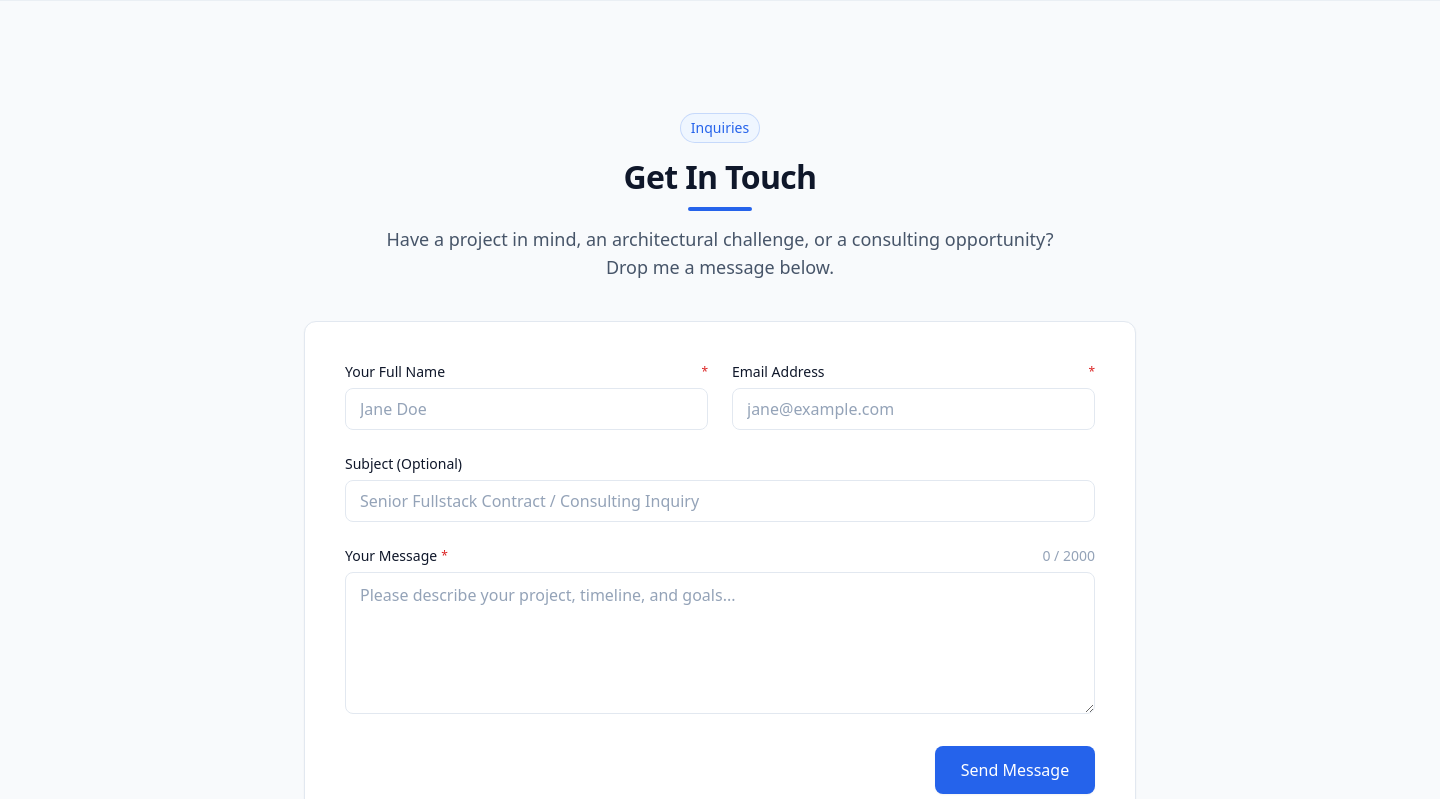
Test: Contact Form Component › Client-Side Form Validation › shows inline error when name is shorter than 2 characters
This screenshot has width=1440, height=799.
Type "A" into the field labelled "Your Full Name *" at (526, 409), box [345,388,708,430]
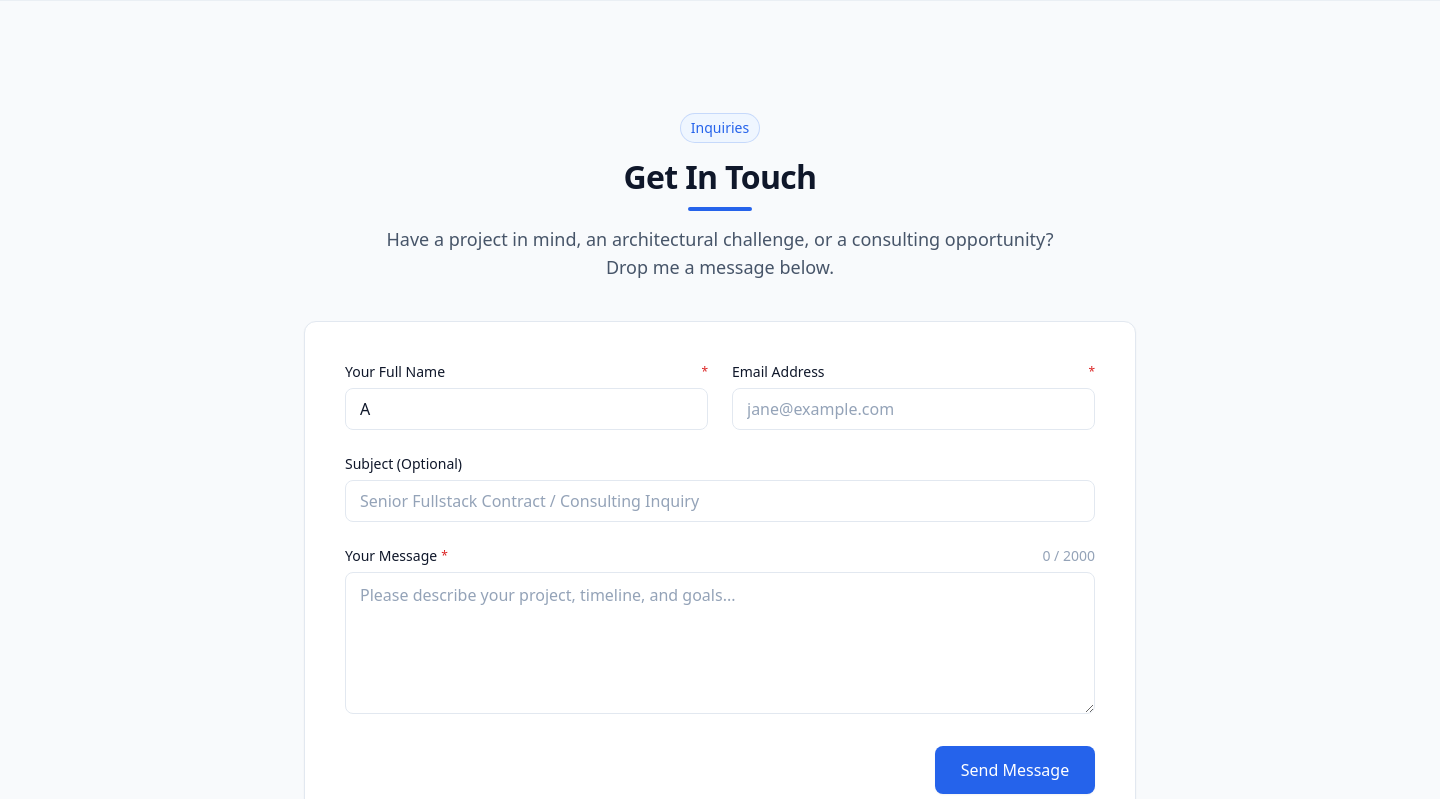
Click the button "Send Message" at (1015, 770), box [935,746,1095,794]
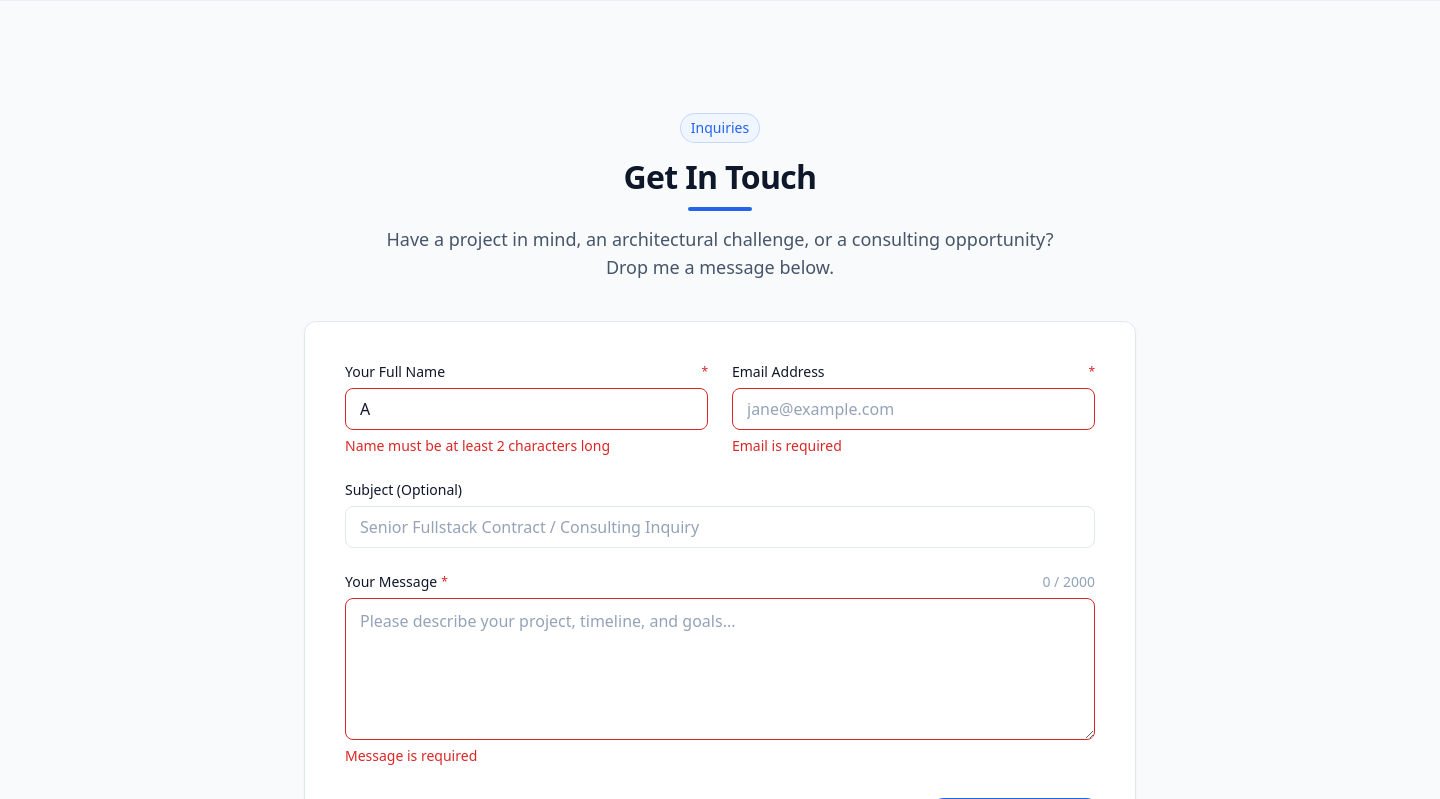
Result: the text "Name must be at least 2 characters long" is shown at [345,436,610,456]
